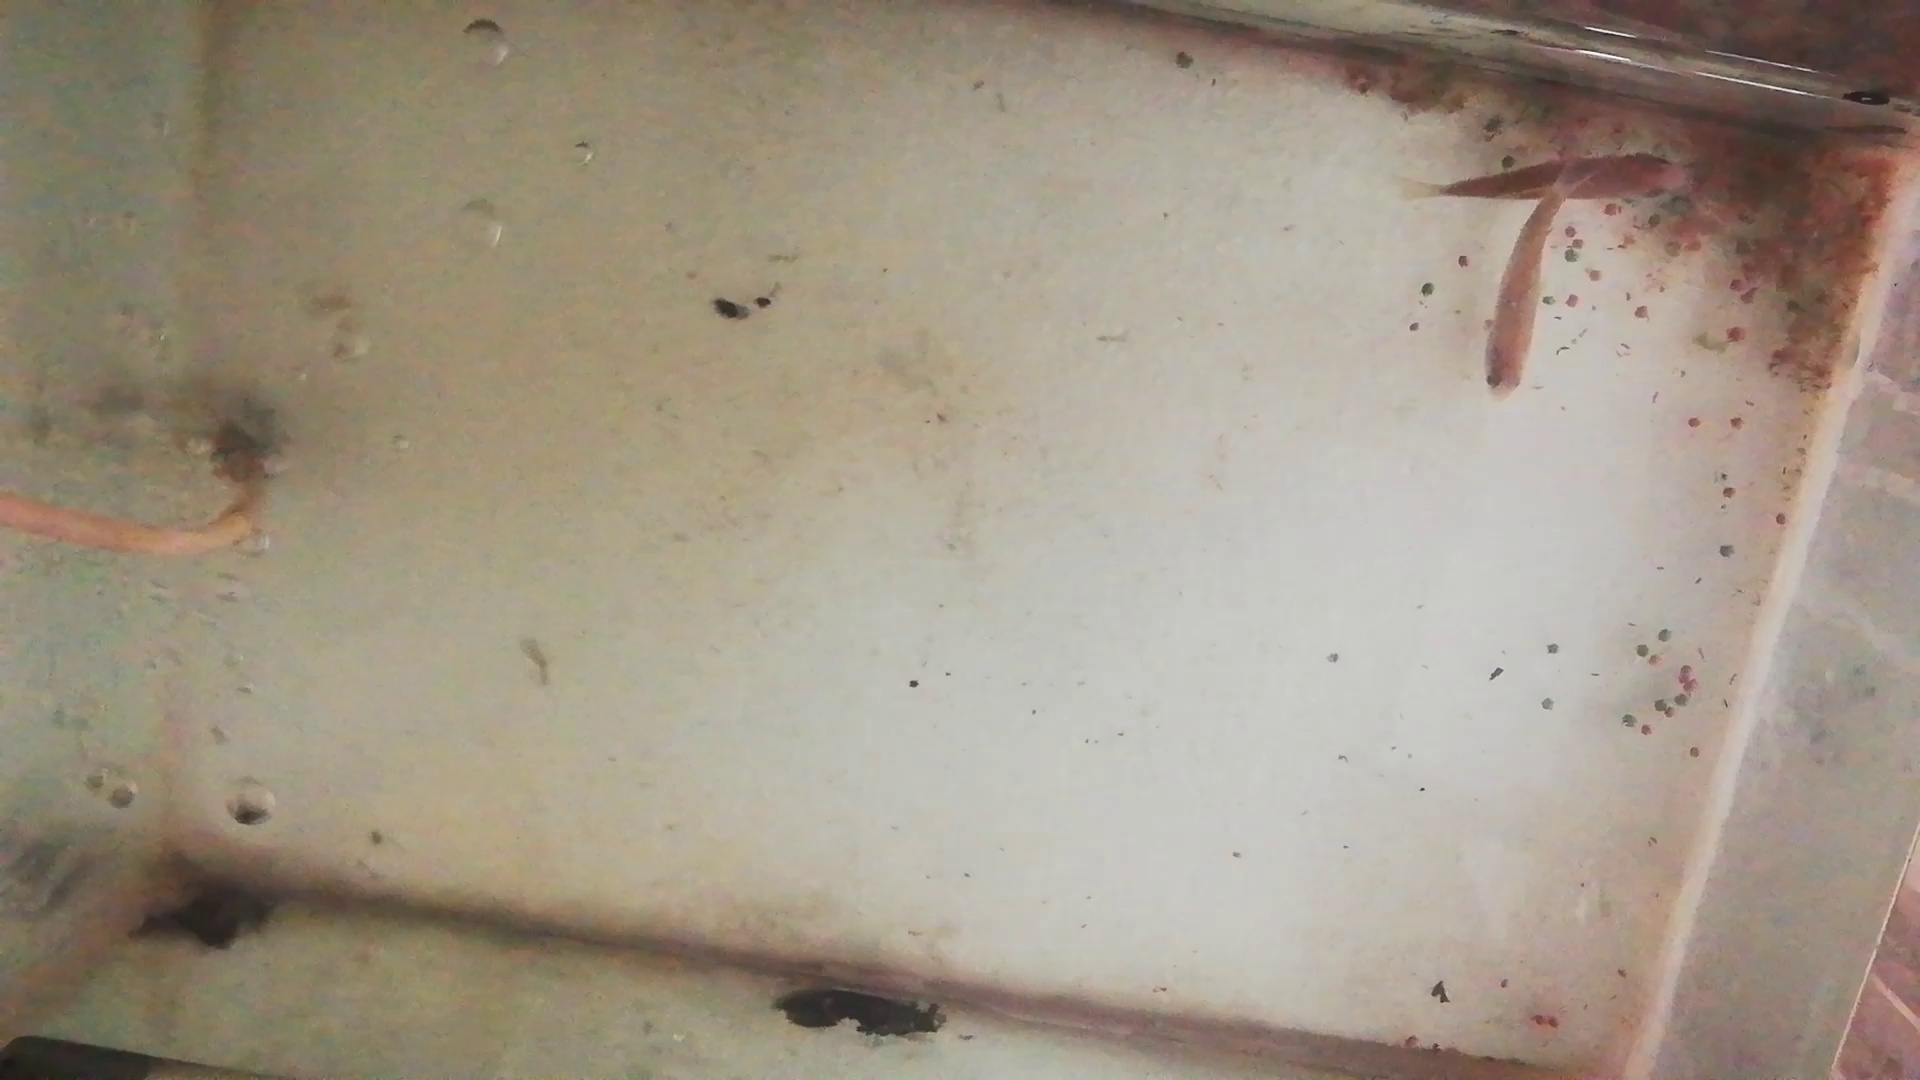fish: (1484, 185, 1560, 398), (1439, 154, 1697, 204)
